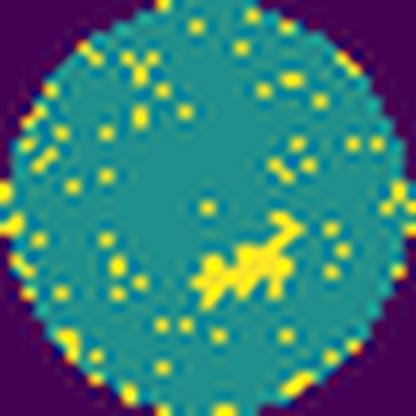Loc: (189, 208, 306, 308)
